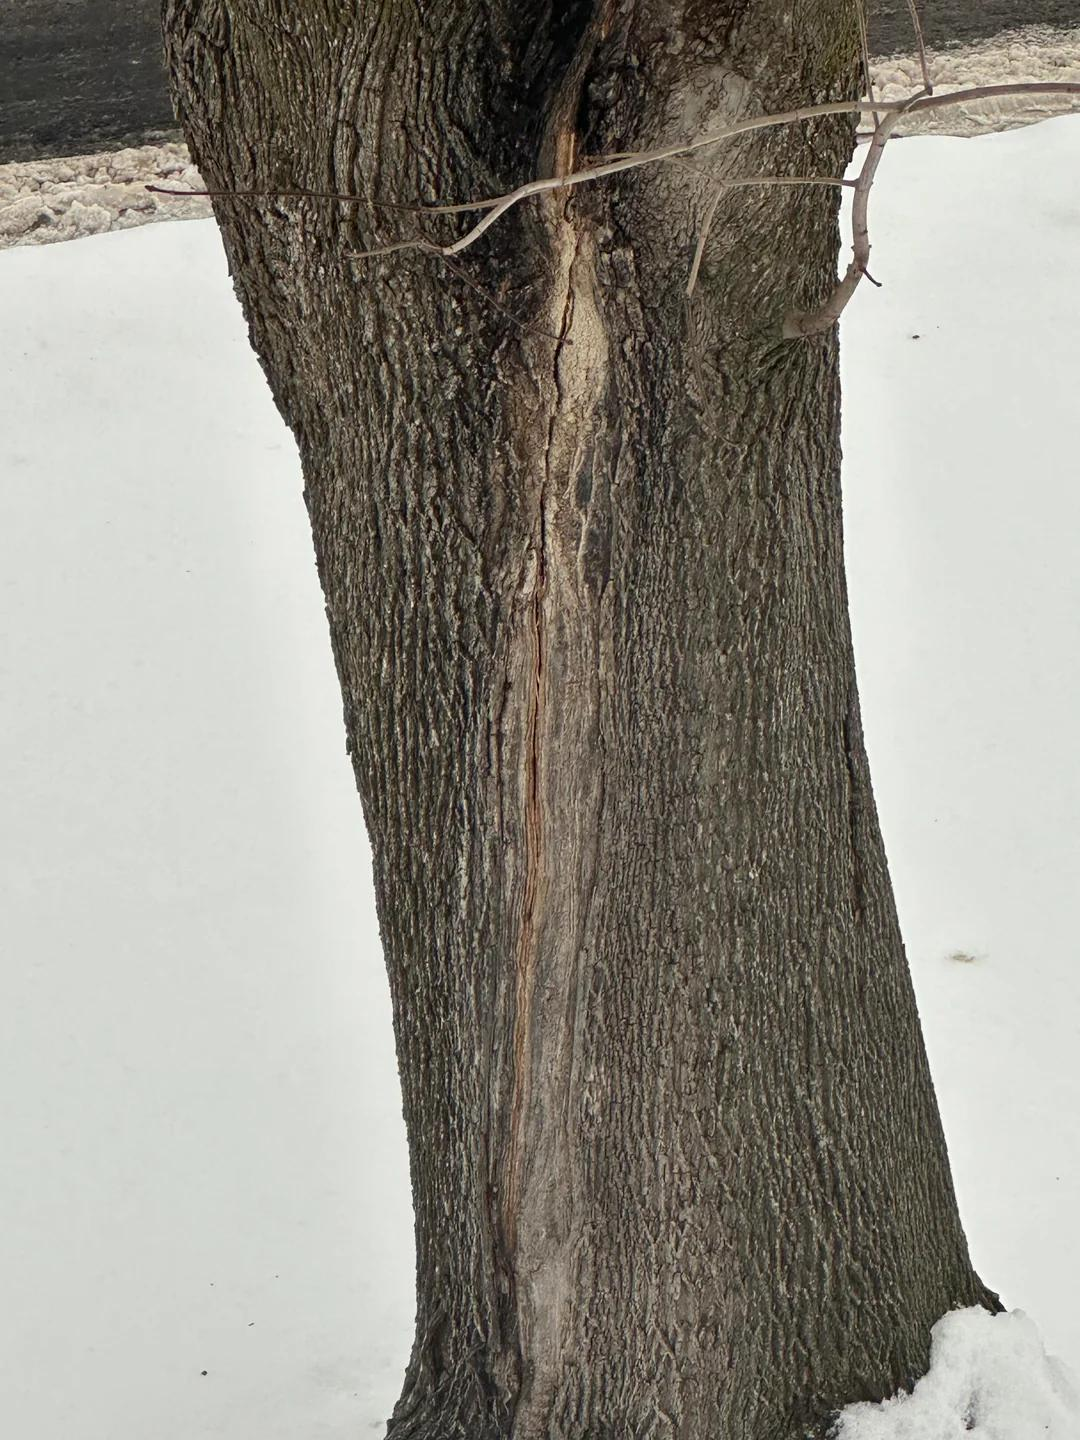mechanical damage: (508, 553, 546, 1250)
